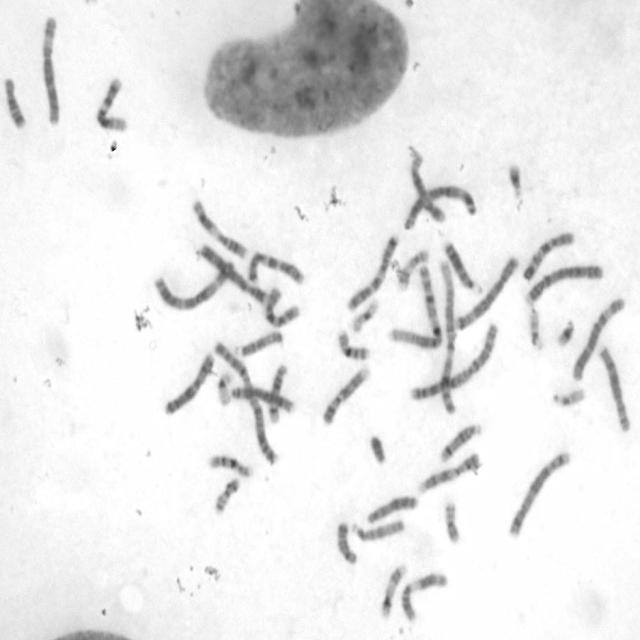A1: (385, 262, 444, 348), (436, 253, 458, 417)
A2: (210, 336, 281, 468), (406, 317, 502, 404)
A3: (152, 253, 236, 310), (401, 182, 478, 232)
B4: (196, 241, 274, 307), (523, 260, 605, 304)
B5: (505, 446, 573, 540), (452, 252, 519, 333)
C10: (519, 228, 577, 283), (260, 281, 301, 329)
C11: (188, 195, 250, 261), (397, 569, 448, 622)
C12: (406, 147, 448, 225), (93, 73, 130, 133)
C6: (569, 293, 626, 383), (38, 12, 64, 128)
C7: (343, 229, 400, 313), (245, 250, 305, 286)
C8: (596, 342, 632, 433), (229, 383, 297, 415)
C9: (319, 362, 372, 428), (414, 449, 484, 495)
D13: (440, 235, 483, 295), (364, 491, 419, 526)
D14: (437, 419, 484, 464), (265, 359, 289, 425)
D15: (348, 516, 406, 544), (232, 327, 285, 357)
E16: (205, 451, 253, 478), (334, 326, 371, 361)
E17: (378, 560, 408, 619), (394, 244, 430, 292)
E18: (1, 72, 28, 131), (333, 518, 359, 566)
F19: (348, 295, 380, 334), (214, 366, 233, 407)
F20: (211, 474, 242, 515), (441, 497, 463, 545)
G21: (504, 160, 524, 202), (552, 314, 576, 348)
G22: (550, 383, 587, 409), (526, 304, 545, 351)
X: (161, 348, 217, 417)
Y: (367, 432, 388, 465)
